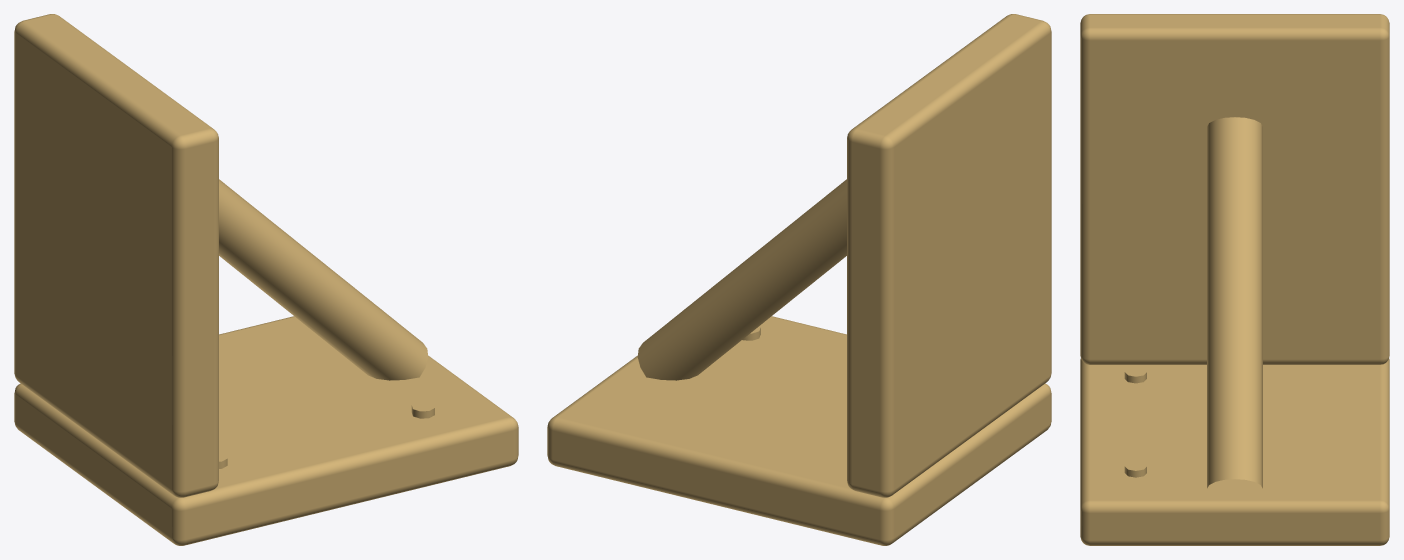
Rendered from griffin-airmail-roost-and-posthouse-cliff-anchor-brack-6704634f__30537.glb.
The picture shows the model from 3 angles, left to right: view 1: azimuth 30°, elevation 25°; view 2: azimuth 150°, elevation 25°; view 3: azimuth 270°, elevation 25°; orthographic projection. The views are drawn at different scales.
Visible parts, largest first — view 1: cliff-anchor-bracket; view 2: cliff-anchor-bracket; view 3: cliff-anchor-bracket.
Part boxes in pixels (x1,y1,x2,y2): cliff-anchor-bracket: [14, 14, 518, 545]; cliff-anchor-bracket: [547, 14, 1051, 545]; cliff-anchor-bracket: [1080, 14, 1389, 545].
Size of the model in its own units: 0.3 by 0.34 by 0.25.
